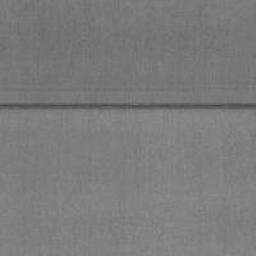Welding line: (0, 101, 256, 111)
